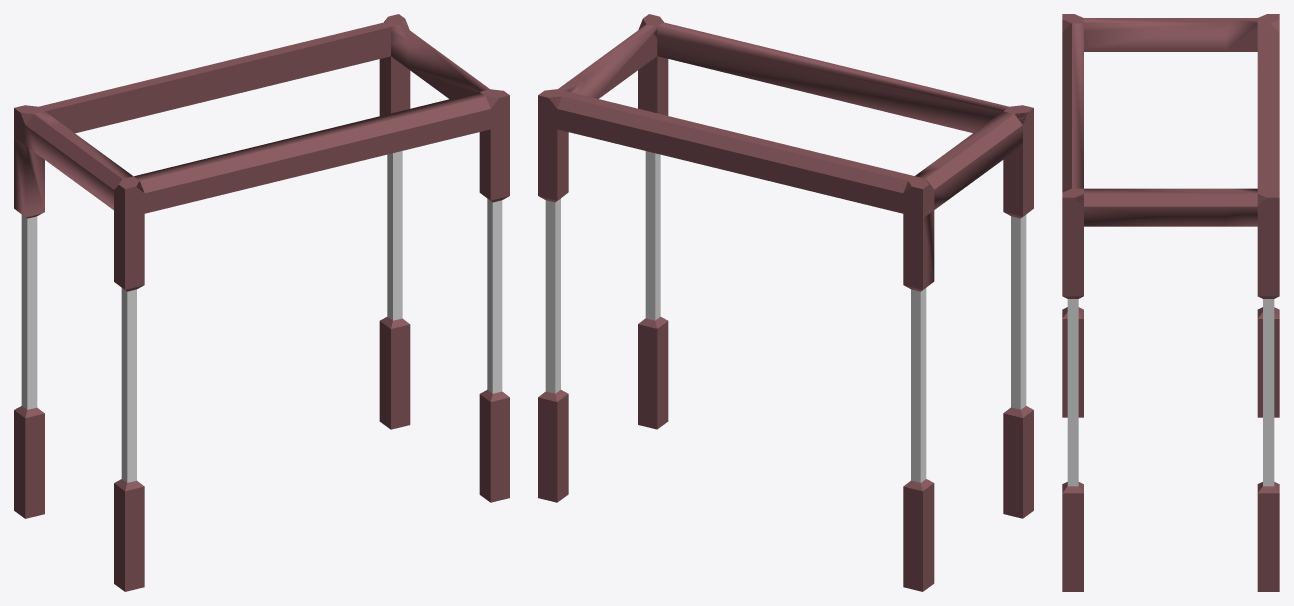
File: Frame2.fbx
The picture shows the model from 3 angles, left to right: view 1: azimuth 30°, elevation 25°; view 2: azimuth 150°, elevation 25°; view 3: azimuth 270°, elevation 25°; orthographic projection. The views are drawn at different scales.
Parts seen in each view (by area): view 1: Cube.001; view 2: Cube.001; view 3: Cube.001.
Boxes of the visible parts, x1,y1,x2,y2 form: Cube.001: (14, 14, 509, 591); Cube.001: (538, 14, 1033, 591); Cube.001: (1062, 14, 1279, 591).
Size of the model in its own units: 800 by 800 by 400.
